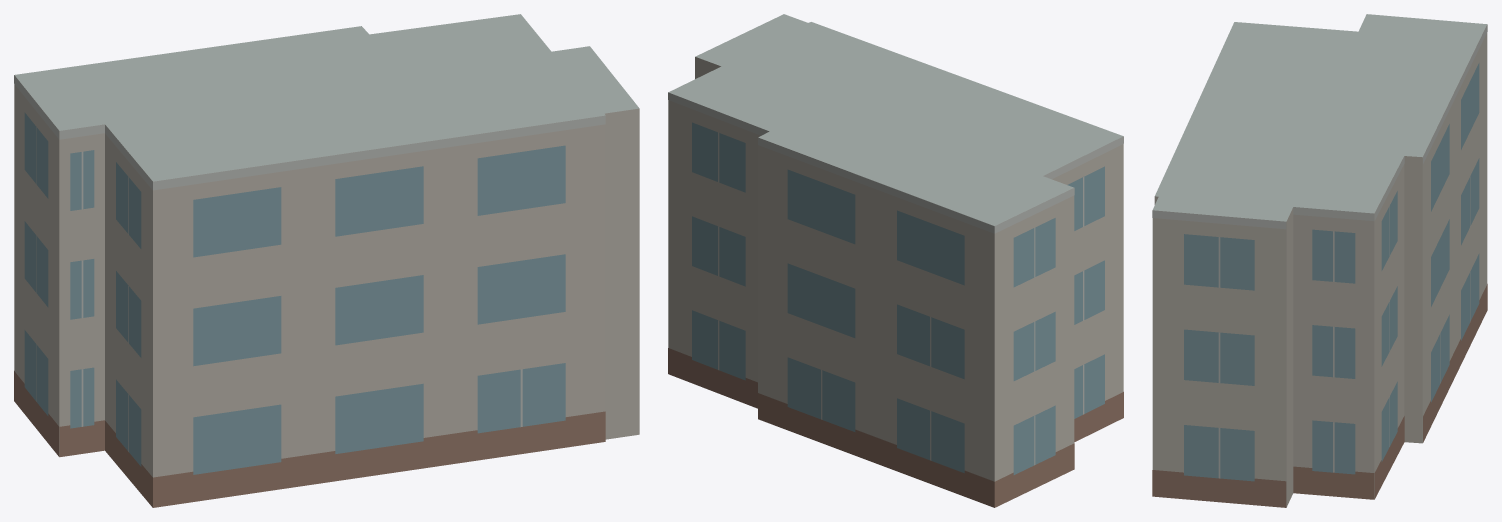
The model's file is survey-upis-32664667.glb.
The picture shows the model from 3 angles, left to right: view 1: azimuth 30°, elevation 25°; view 2: azimuth 150°, elevation 25°; view 3: azimuth 270°, elevation 25°; orthographic projection. The views are drawn at different scales.
Visible parts, largest first — view 1: survey-upis-32664667.tmp; view 2: survey-upis-32664667.tmp; view 3: survey-upis-32664667.tmp.
Part boxes in pixels (<box>): survey-upis-32664667.tmp: <box>14,14,639,507</box>; survey-upis-32664667.tmp: <box>668,14,1123,507</box>; survey-upis-32664667.tmp: <box>1152,14,1487,507</box>.
Bounding box in the file's own units: 14.09 × 9.05 × 9.6.
